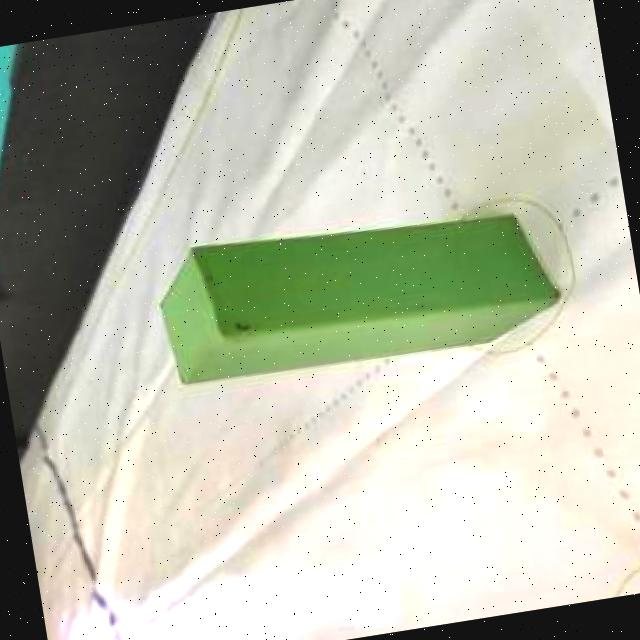greenbox: (144, 192, 562, 394)
